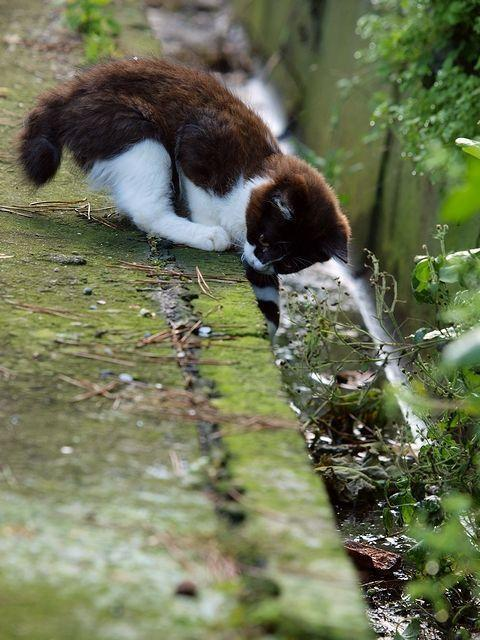kedo: (24, 59, 352, 274)
